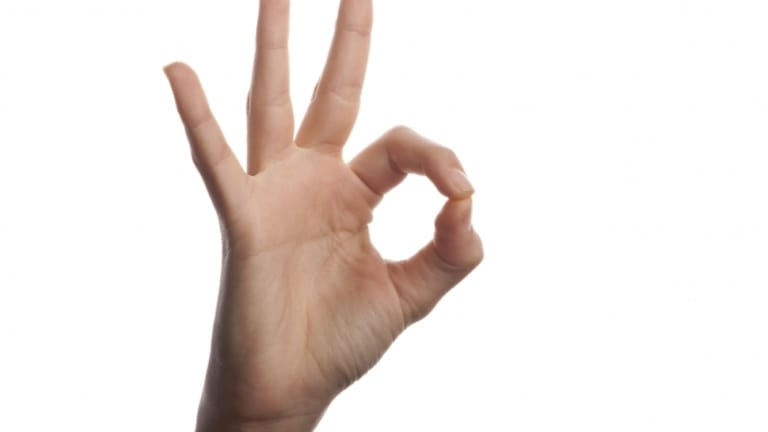oksign: (172, 7, 491, 407)
